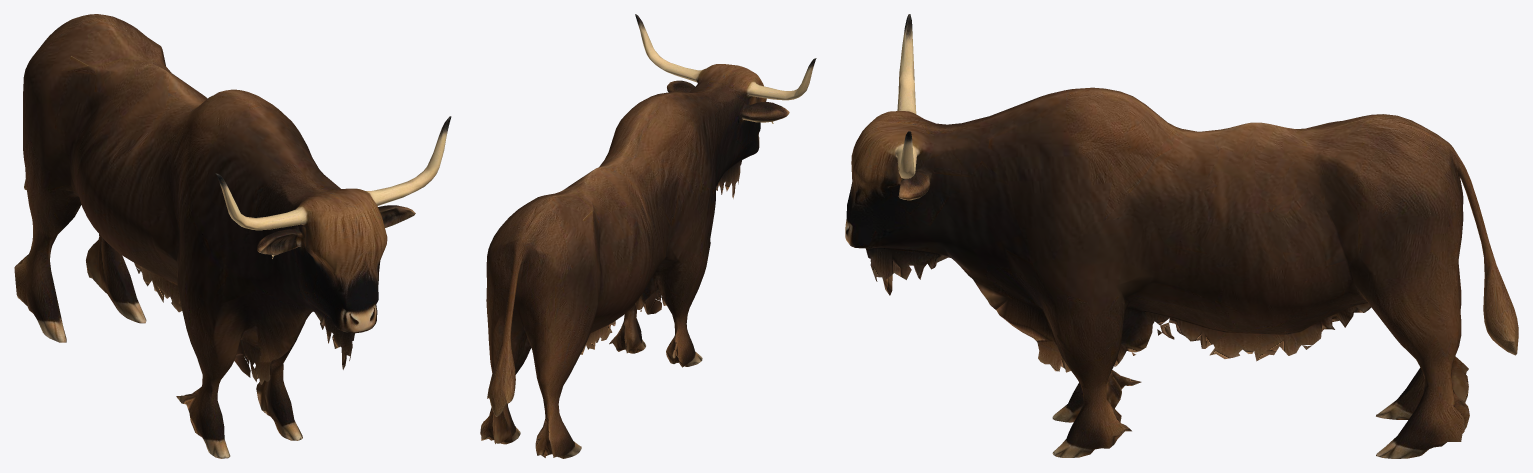
Rendered from yak.glb.
The picture shows the model from 3 angles, left to right: view 1: azimuth 30°, elevation 25°; view 2: azimuth 150°, elevation 25°; view 3: azimuth 270°, elevation 25°; orthographic projection. The views are drawn at different scales.
Parts seen in each view (by area): view 1: Body, LegB, LegD, LegC, LegA; view 2: Body, LegB, LegD, LegC, LegA; view 3: Body, LegC, LegA, LegB, LegD.
Boxes of the visible parts, x1,y1,x2,y2 form: Body: (23,14,451,369); LegB: (135,263,290,458); LegD: (14,179,159,342); LegC: (86,234,146,323); LegA: (256,321,305,440); Body: (486,14,816,416); LegB: (596,272,703,367); LegD: (496,323,611,458); LegC: (480,358,526,444); LegA: (609,304,645,353); Body: (845,14,1518,372); LegC: (1259,306,1518,458); LegA: (1030,311,1250,457); LegB: (1037,317,1253,422); LegD: (1289,291,1468,419).
Size of the model in its own units: 0.7826 by 1.13 by 1.9.
1 material, 1 textured.
